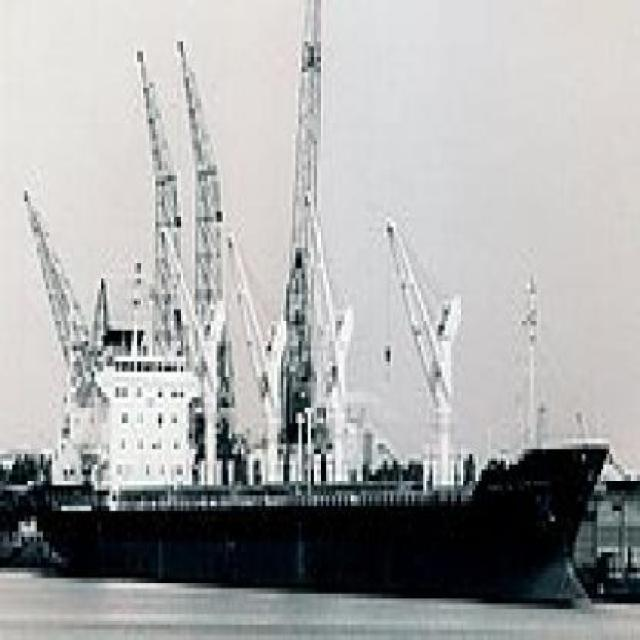container: (17, 1, 620, 615)
